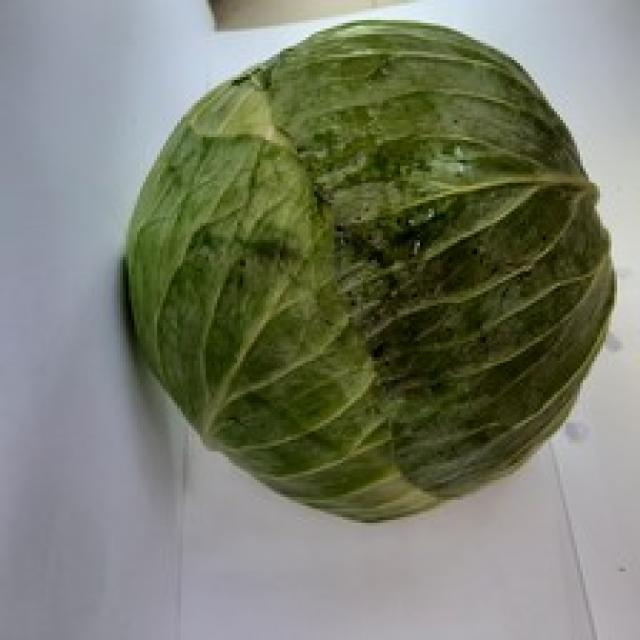Cabbage: (120, 17, 617, 523)
